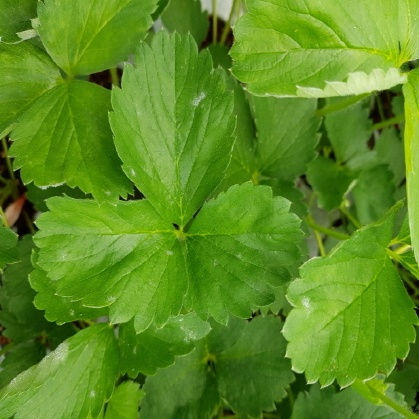Powdery_Leaf: (113, 0, 418, 325), (63, 81, 416, 340), (0, 28, 387, 250), (114, 38, 301, 332), (181, 86, 388, 233), (179, 194, 313, 394)
